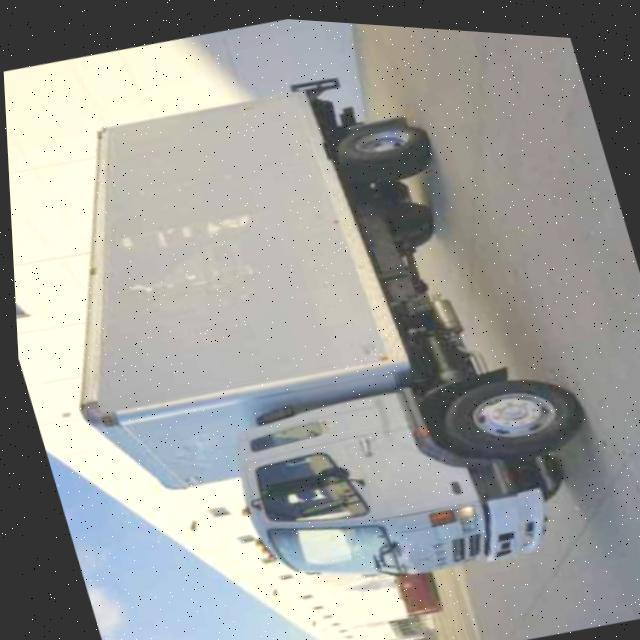truck: (1, 17, 608, 640)
